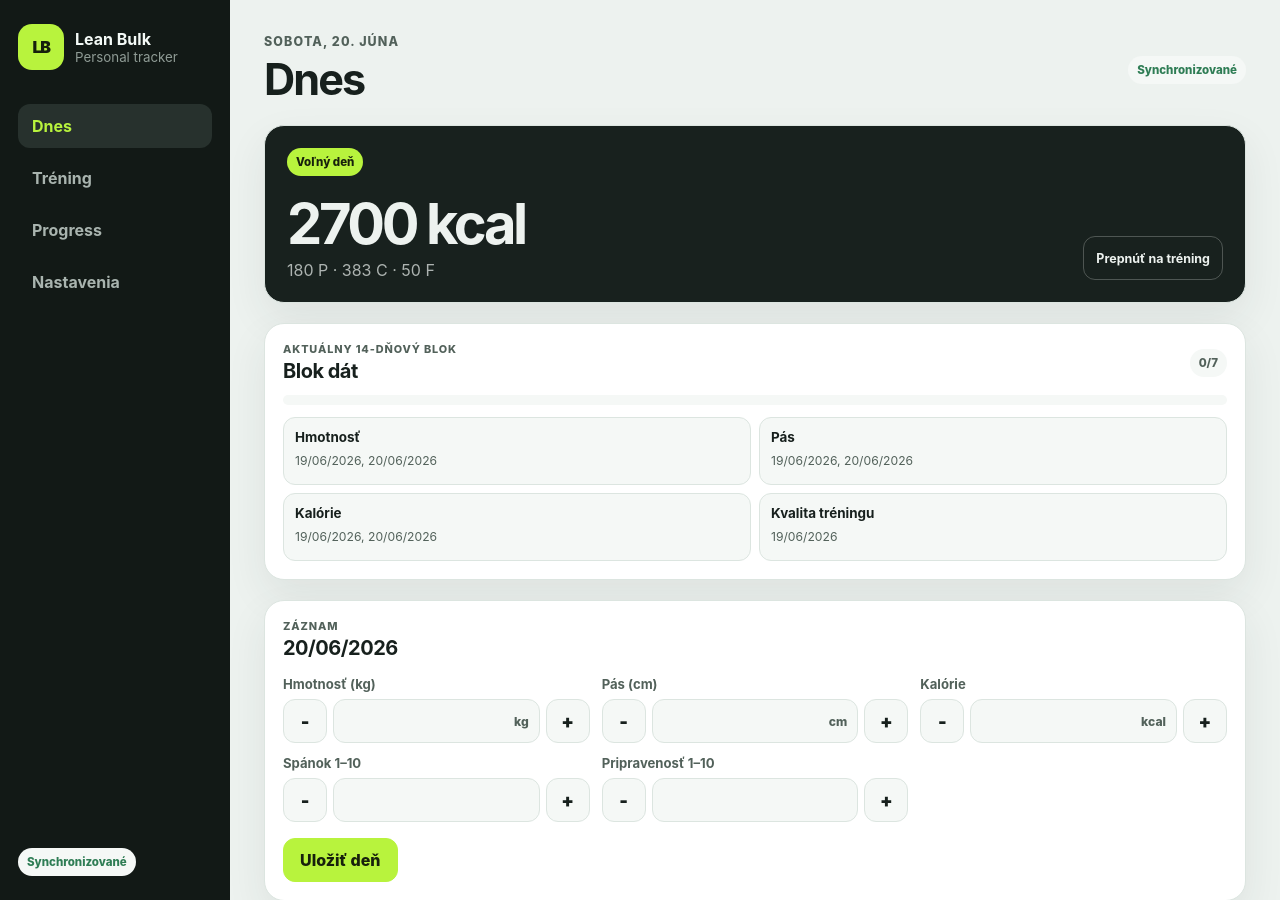
App demo mode › saves a top set for a selected previous training date
Later steps or results of the test are not shown.
Click the button "Tréning" at (115, 178), box [18,156,212,200]
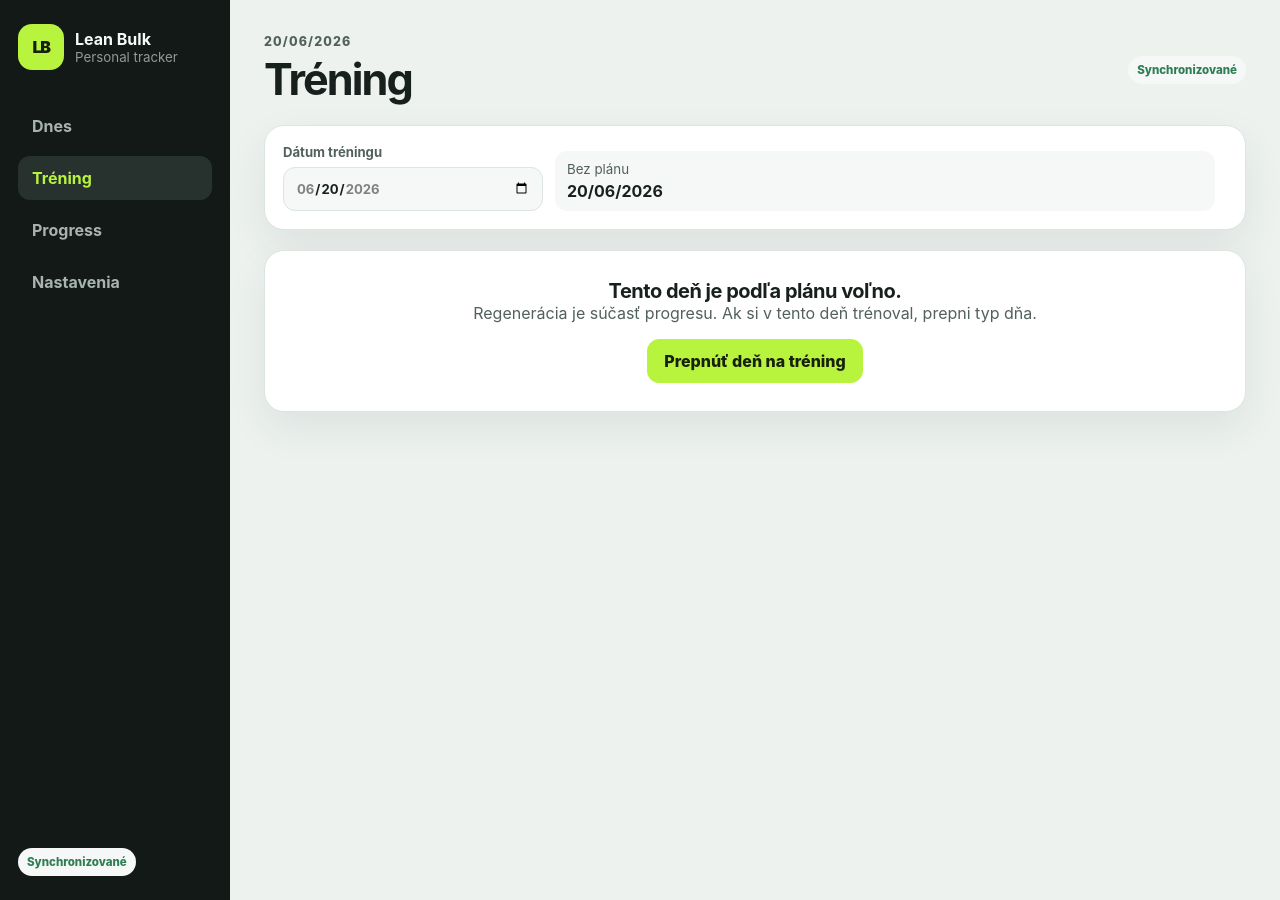
Type "2026-06-19" into the date field labelled "Dátum tréningu" at (413, 189), box [283,167,543,211]
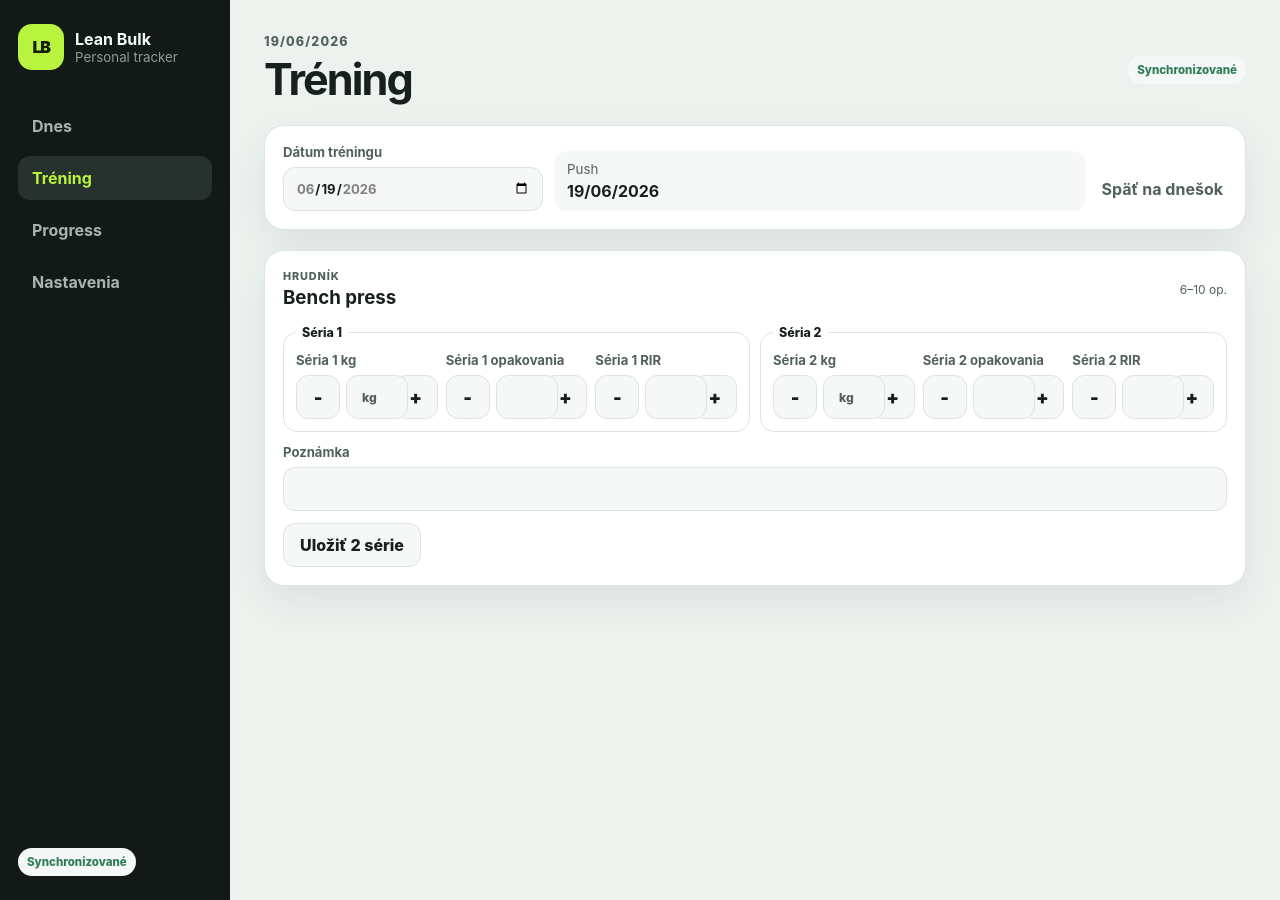
Expected: the 1st text "19/06/2026" is shown, [264,34,349,49]
